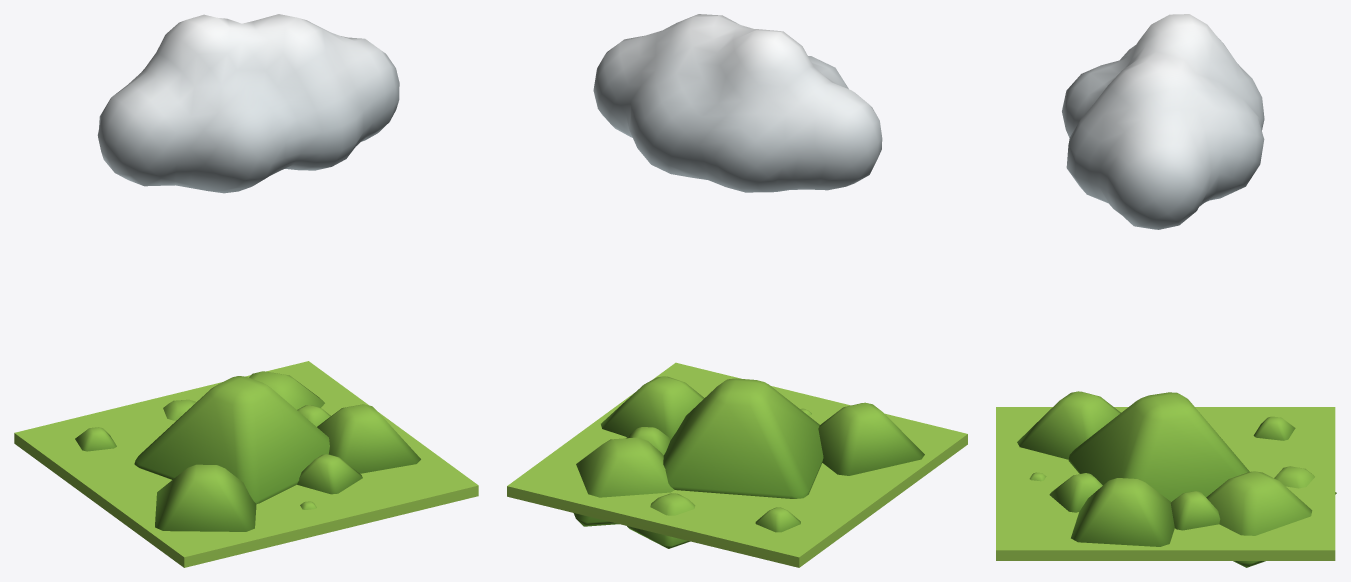
File: cloud.glb
The picture shows the model from 3 angles, left to right: view 1: azimuth 30°, elevation 25°; view 2: azimuth 150°, elevation 25°; view 3: azimuth 270°, elevation 25°; orthographic projection.
Visible parts, largest first — view 1: Cloud; view 2: Cloud; view 3: Cloud.
Part boxes in pixels (<box>): Cloud: <box>14,14,478,567</box>; Cloud: <box>507,14,967,567</box>; Cloud: <box>996,14,1336,567</box>.
Size of the model in its own units: 0.29 by 0.4406 by 0.2914.
Materials: 2 (2 with a texture image).
